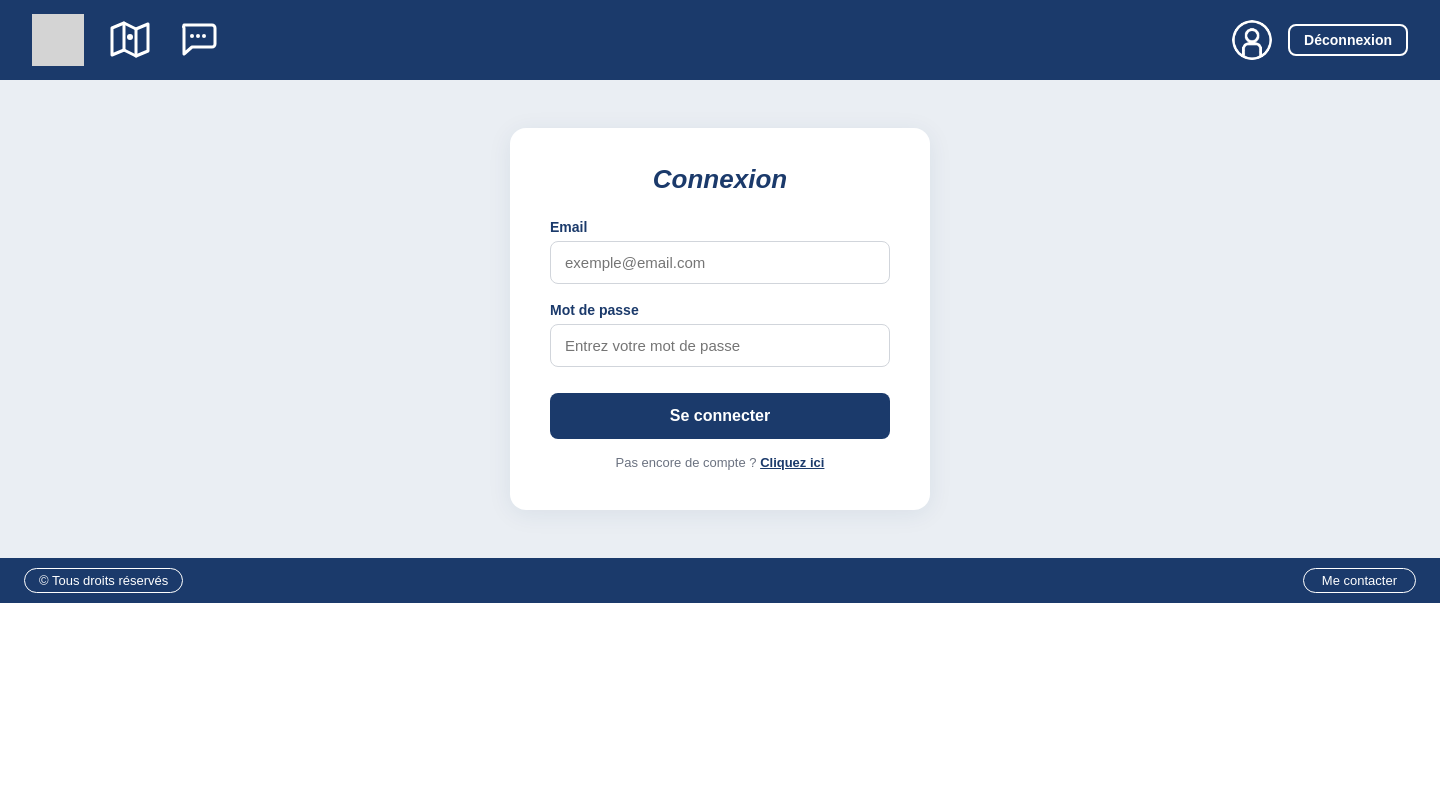
Scenario: LoginPage › affiche le message d'erreur en cas d'échec de connexion
Type "a@b.com" into the field with placeholder "exemple@email.com" at x=720, y=262, box [550,241,890,284]
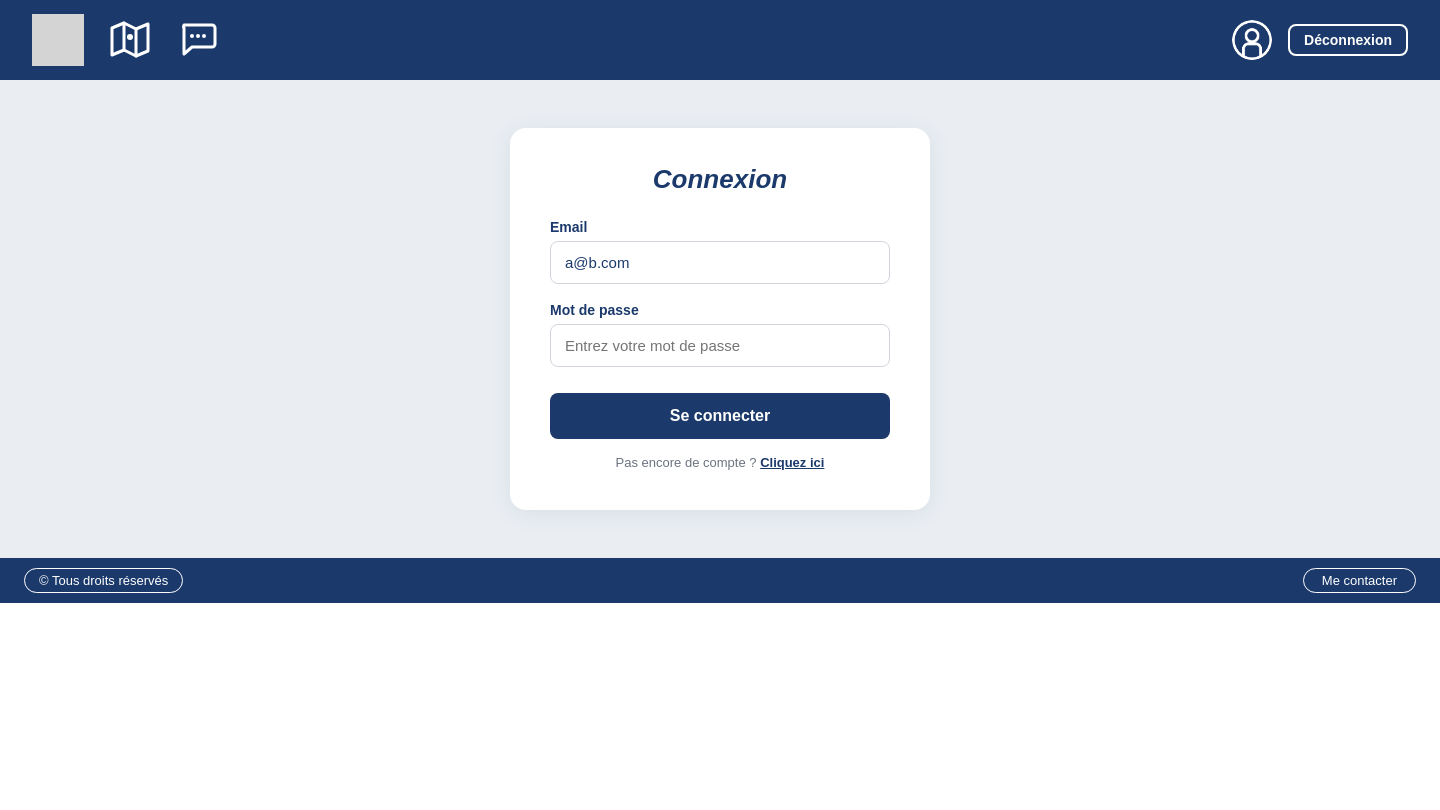
Type "bad" into the password field with placeholder "Entrez votre mot de passe" at x=720, y=346, box [550,324,890,367]
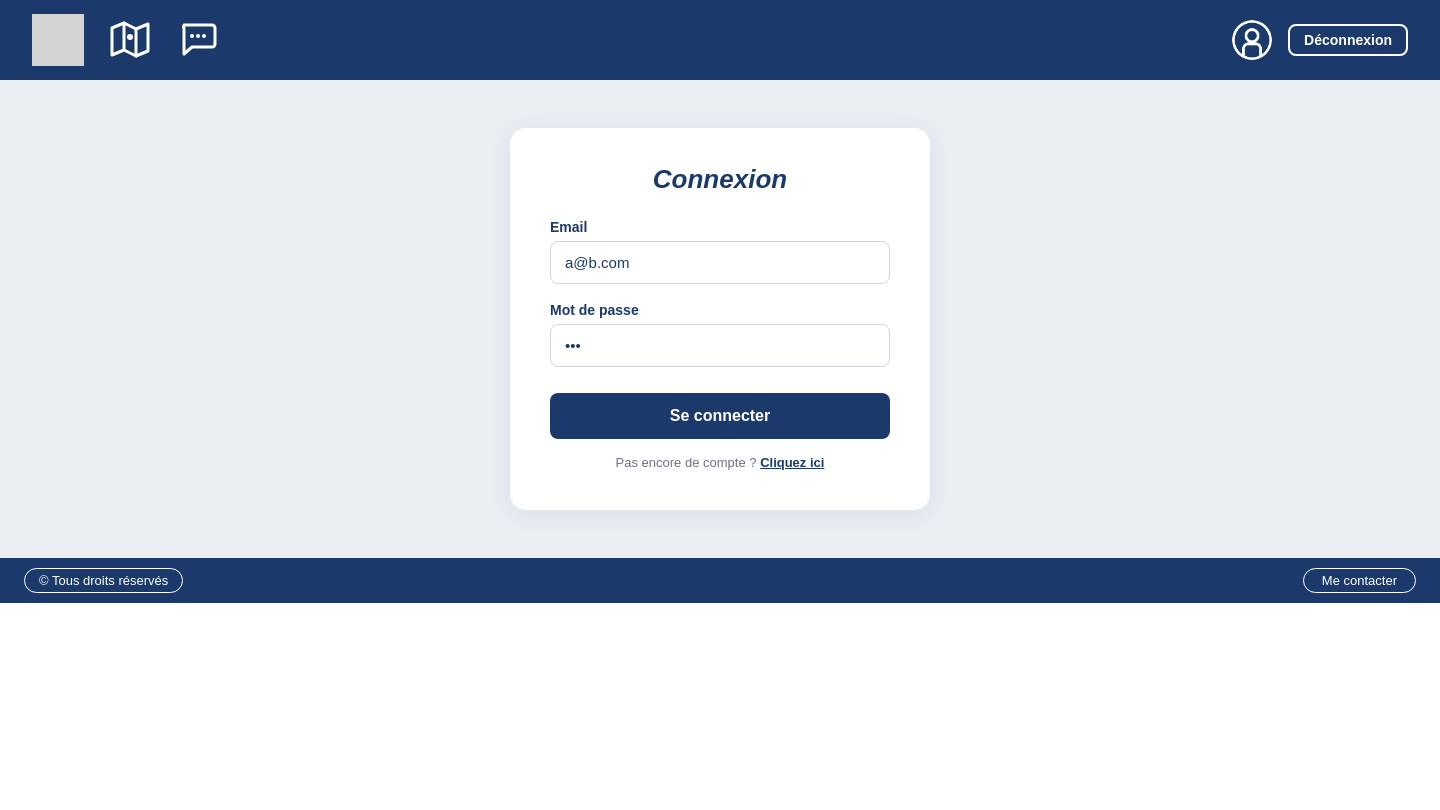
Click the button "Se connecter" at x=720, y=416, box [550,393,890,439]
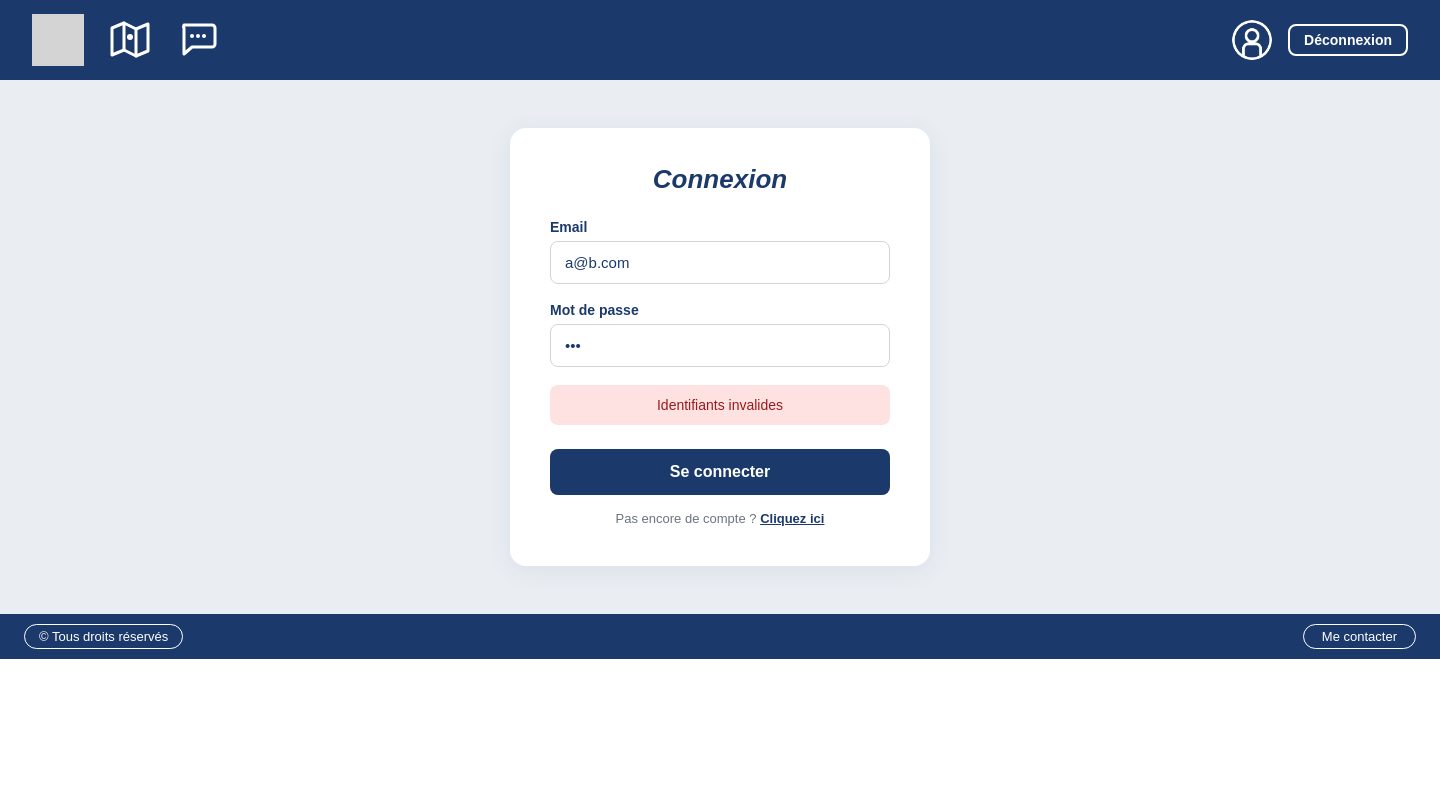
Result: the text "Identifiants invalides" is shown at [550,385,890,425]
